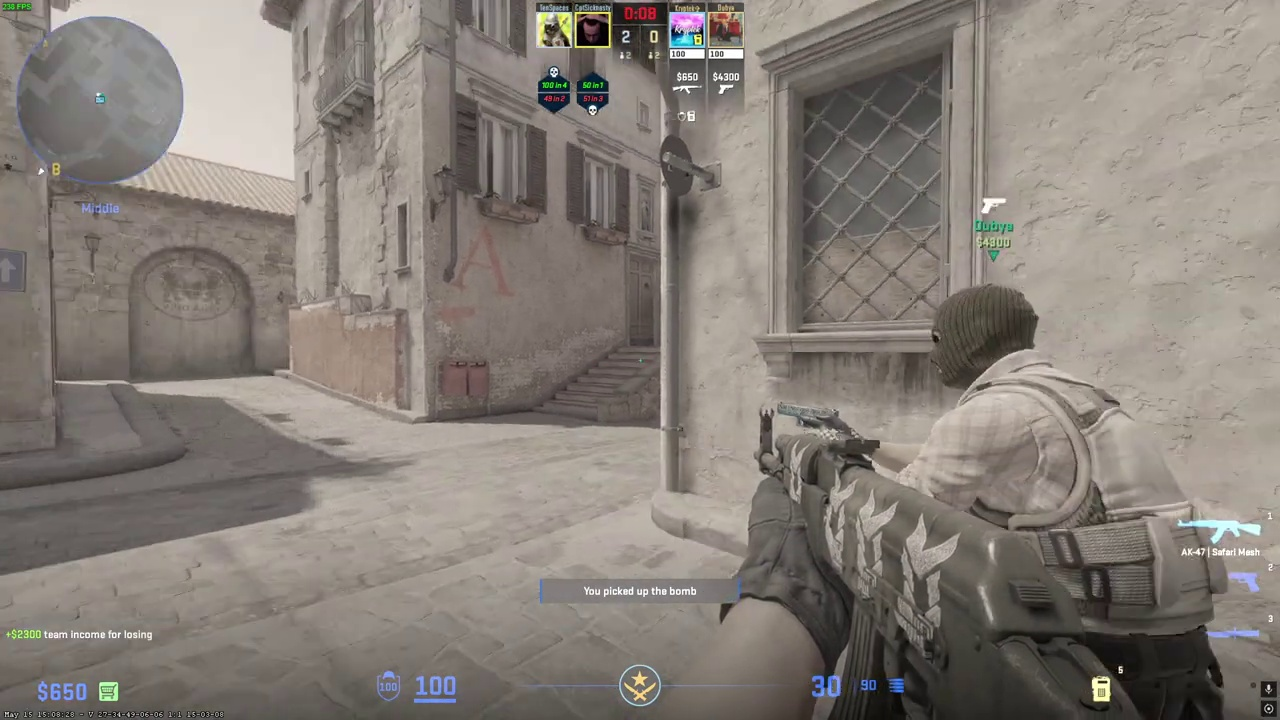Terrorist: (900, 285, 1216, 719)
